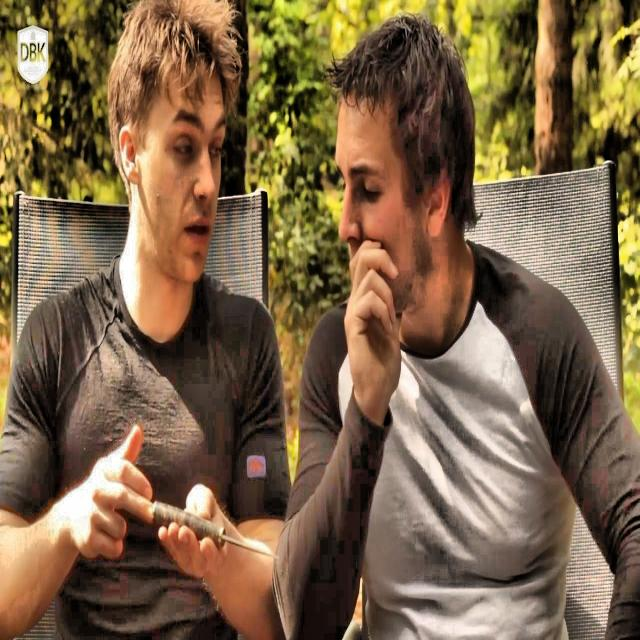knife: (154, 501, 278, 560)
